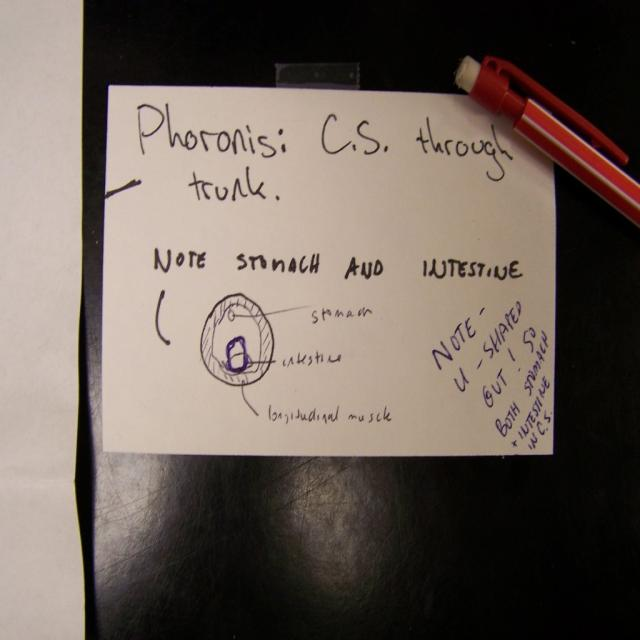pen: (450, 50, 640, 229)
